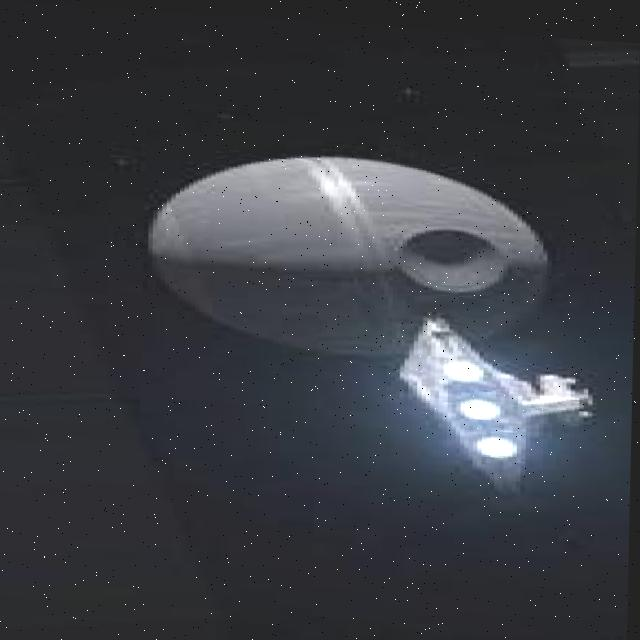deathstar: (153, 141, 549, 356)
